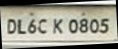character: (16, 17, 27, 35), (37, 17, 48, 35), (26, 17, 37, 34), (6, 18, 17, 34), (52, 17, 62, 33), (67, 17, 77, 33), (89, 17, 99, 33), (99, 17, 109, 33), (78, 17, 87, 32)
